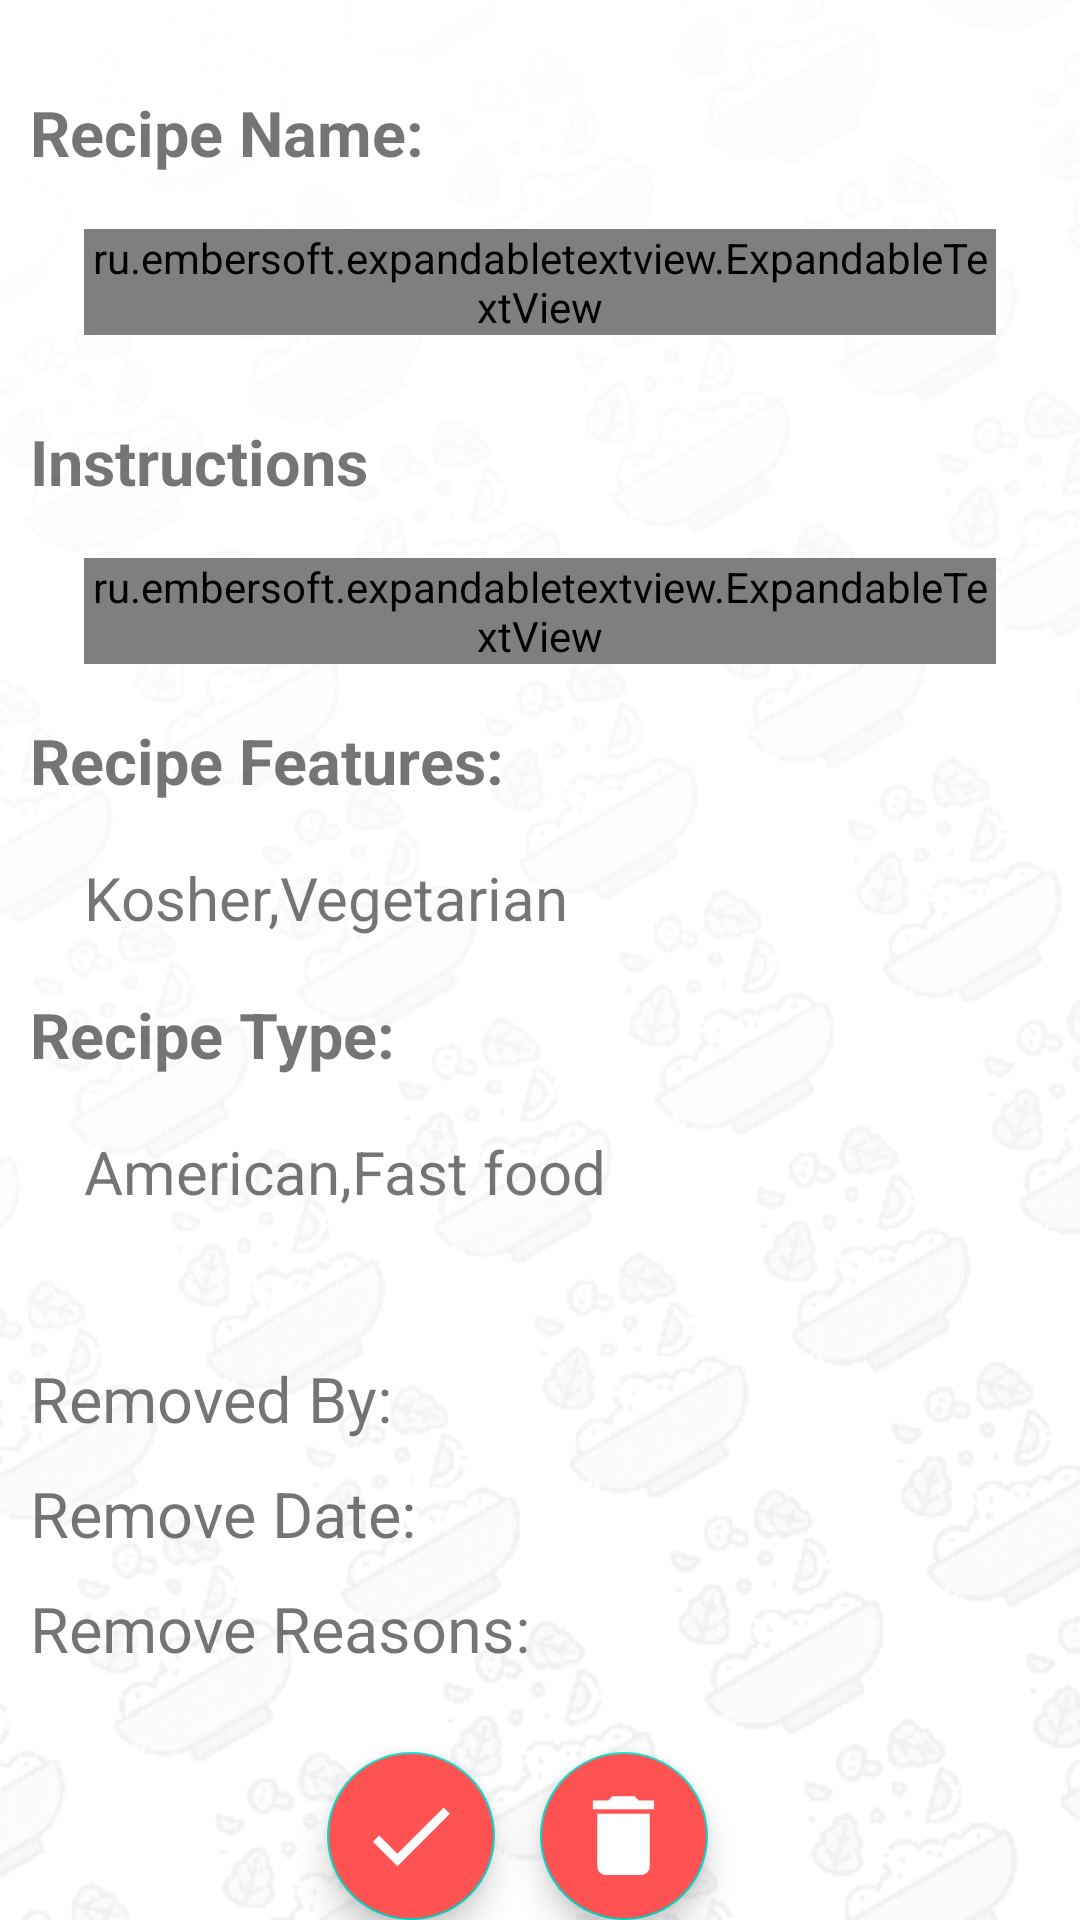

Point at icon controls on the screen. Image size 1080x1920, points as point (x, y).
check: point (411, 1836)
delete: point (624, 1836)
